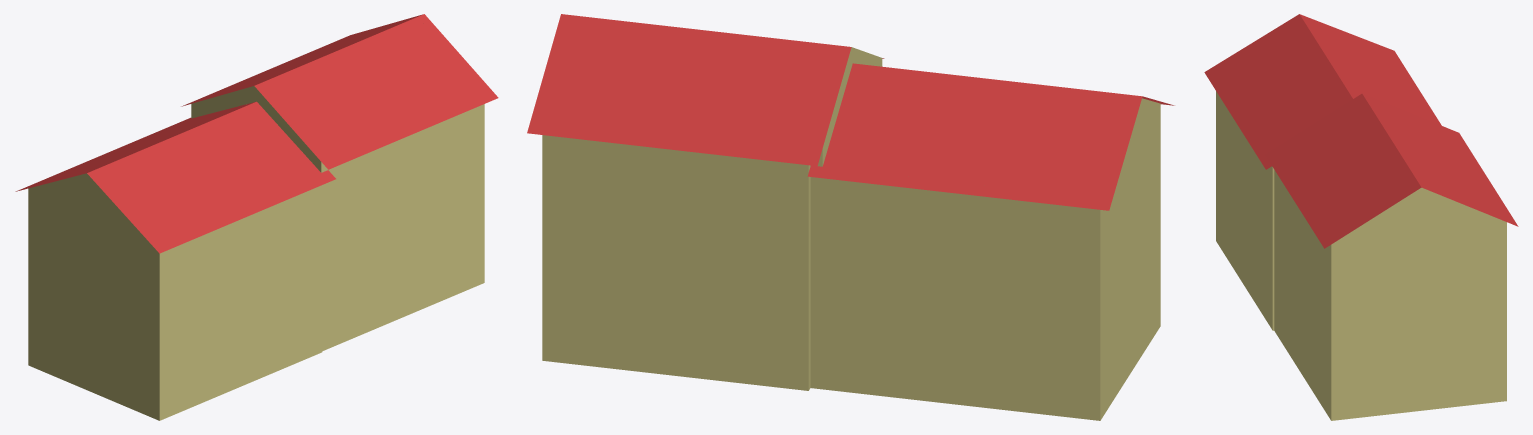
The picture shows the model from 3 angles, left to right: view 1: azimuth 30°, elevation 25°; view 2: azimuth 150°, elevation 25°; view 3: azimuth 270°, elevation 25°; orthographic projection. The views are drawn at different scales.
Visible parts, largest first — view 1: group_9, group_5, group_7, group_3, group_4, group_8; view 2: group_9, group_5, group_3, group_7, group_8; view 3: group_5, group_3, group_7, group_9, group_4, group_8.
Part boxes in pixels (x1,y1,x2,y2): group_9: (28, 173, 322, 420); group_5: (191, 86, 484, 351); group_7: (15, 101, 335, 253); group_3: (182, 14, 498, 168); group_4: (184, 14, 497, 169); group_8: (45, 121, 332, 251); group_9: (822, 98, 1160, 420); group_5: (542, 47, 882, 390); group_3: (527, 14, 884, 166); group_7: (808, 63, 1173, 210); group_8: (810, 95, 1169, 209); group_5: (1274, 170, 1506, 420); group_3: (1274, 93, 1518, 248); group_7: (1204, 14, 1441, 169); group_9: (1216, 91, 1274, 330); group_4: (1265, 127, 1457, 247); group_8: (1205, 14, 1438, 169).
Size of the model in its own units: 38.7 by 24.57 by 19.61.
